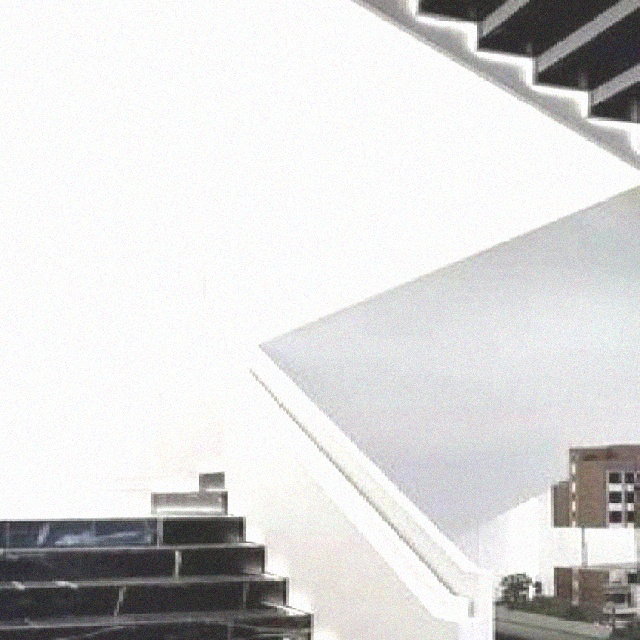stair: (3, 382, 514, 638)
